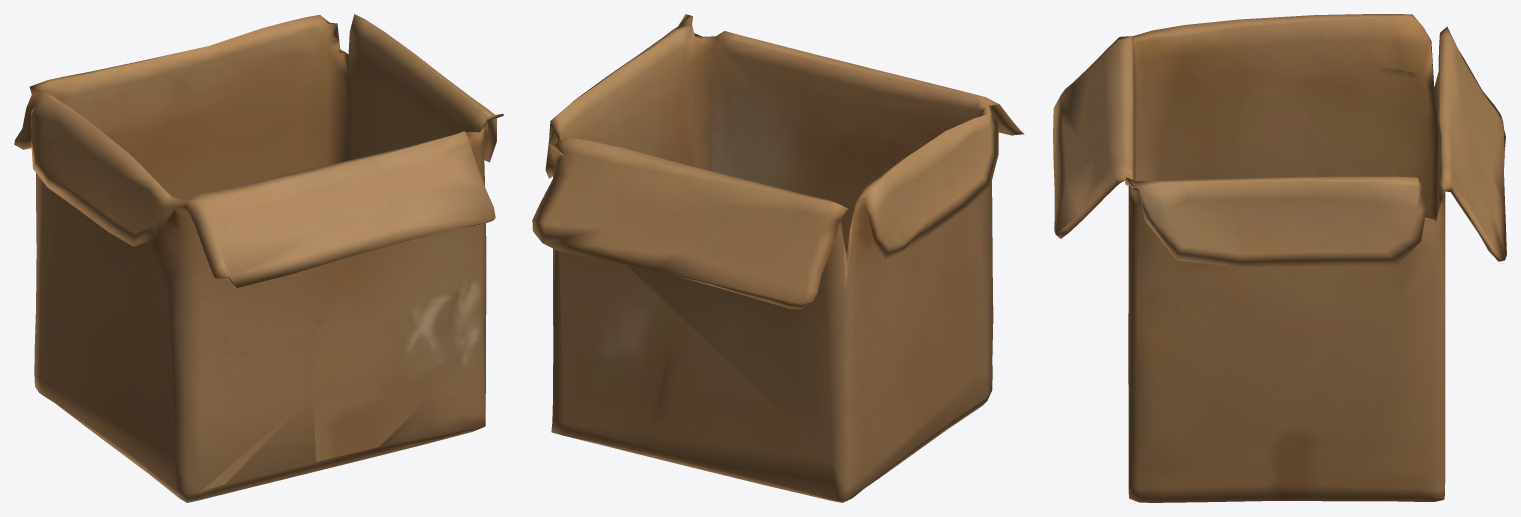
Rendered from cardboard_box.glb.
3 views of the same model, side by side, from view 1: azimuth 30°, elevation 25°; view 2: azimuth 150°, elevation 25°; view 3: azimuth 270°, elevation 25° (orthographic). The views are drawn at different scales.
Visible parts, largest first — view 1: cardboard_box; view 2: cardboard_box; view 3: cardboard_box.
Boxes of the visible parts, left/top/right/bottom form: cardboard_box: left=14, top=14, right=503, bottom=502; cardboard_box: left=532, top=14, right=1024, bottom=502; cardboard_box: left=1053, top=14, right=1506, bottom=502.
Size of the model in its own units: 0.6 by 0.52 by 0.64.
1 material, 1 textured.
